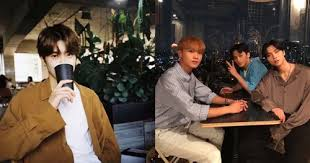people: (20, 28, 102, 163), (156, 35, 224, 163), (262, 39, 310, 163), (229, 43, 265, 90)
